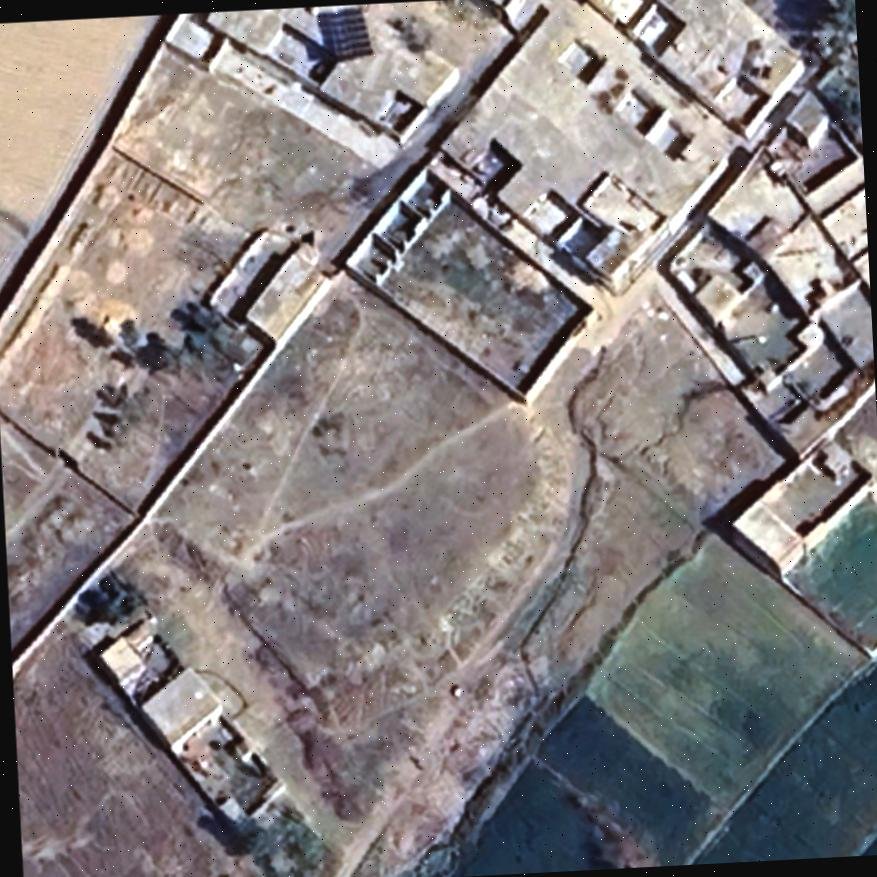Solarpanel: (310, 3, 378, 68)
